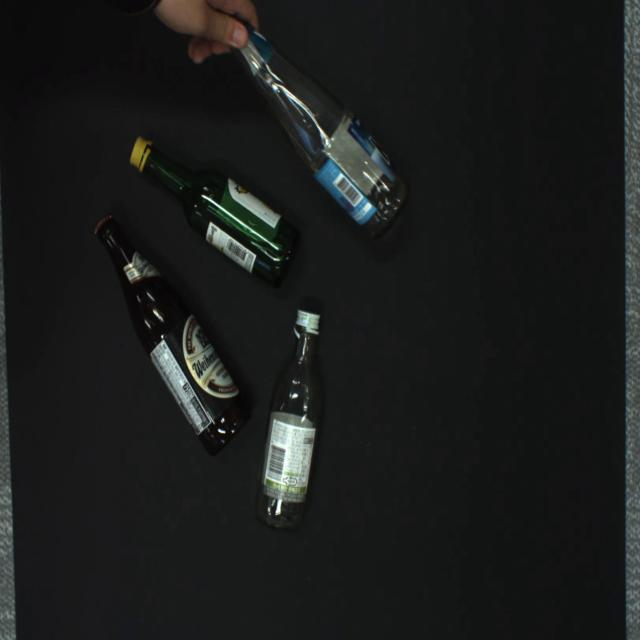beer-bottle: (229, 15, 410, 240), (95, 214, 251, 454)
soju-bottle: (130, 138, 299, 287), (255, 309, 322, 531)
